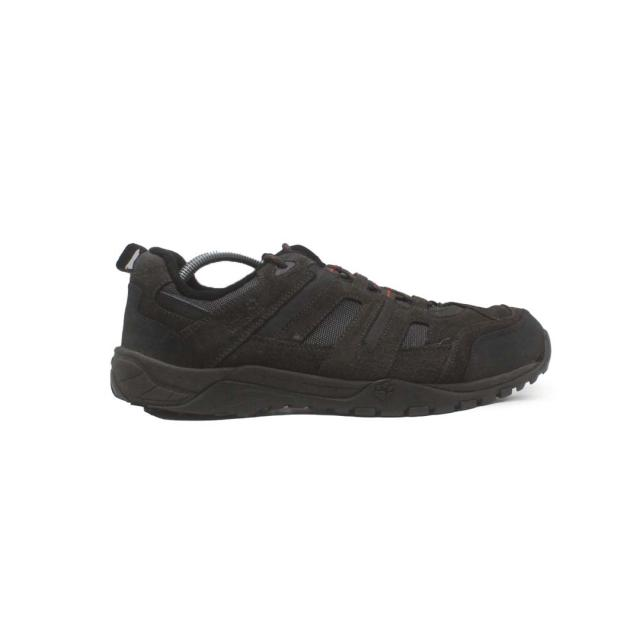heel: (117, 250, 216, 370)
midsole: (106, 332, 555, 417)
uppersole: (213, 241, 544, 382)
